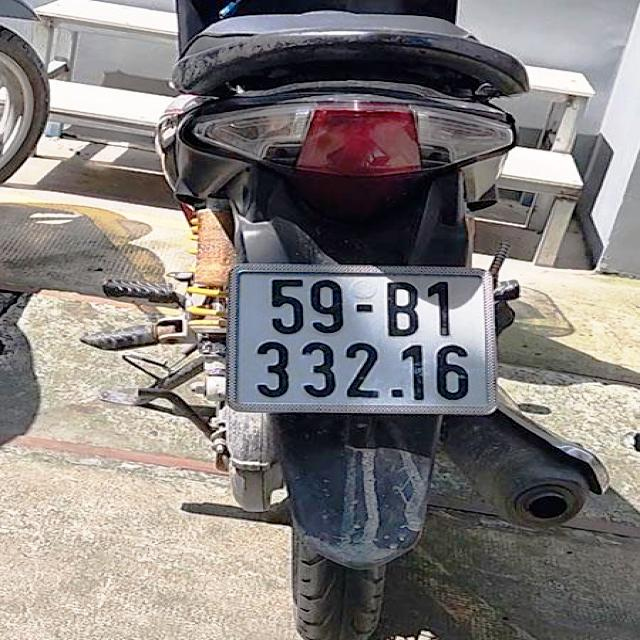license_plate: (235, 276, 494, 410)
